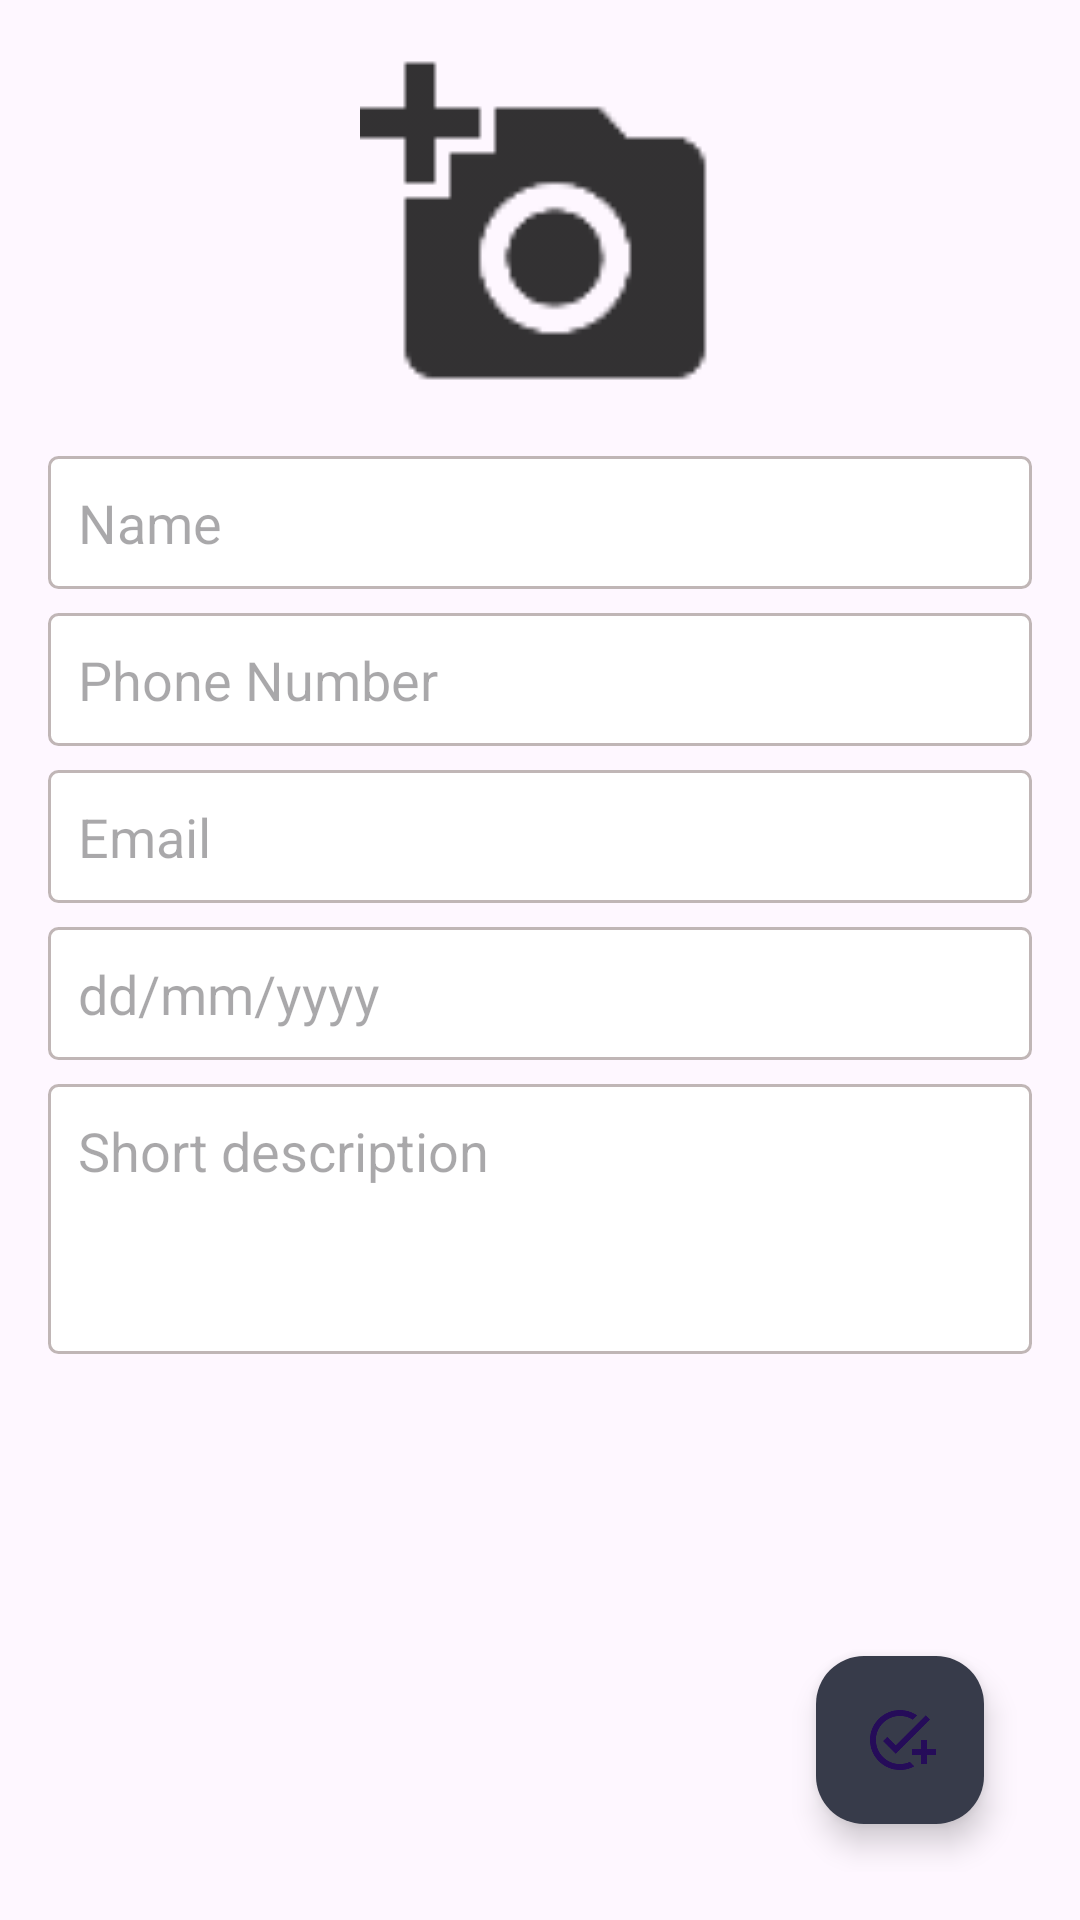

Icons on this 1080 × 1920 Android screen, each with its box as (x1, y1, x2, y2):
Foto de perfil: (360, 61, 707, 380)
Salvar registro: (816, 1656, 984, 1824)
